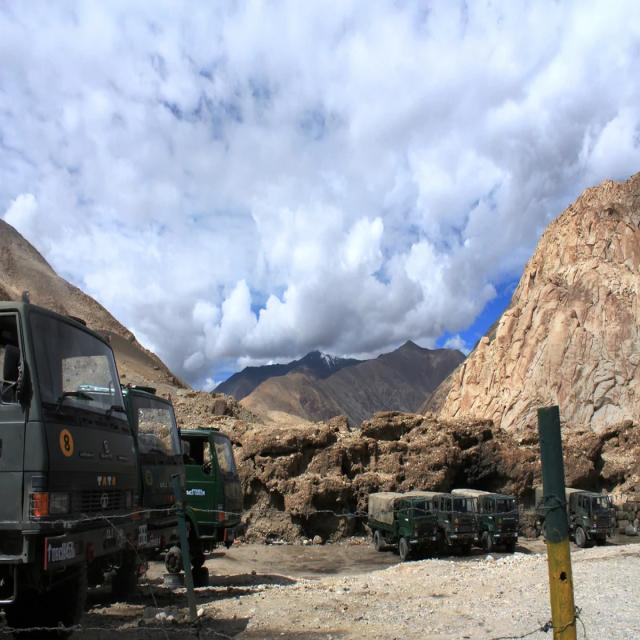military-plate: (44, 538, 78, 567), (186, 487, 206, 499), (148, 536, 162, 548)
unit number: (137, 522, 149, 546)
